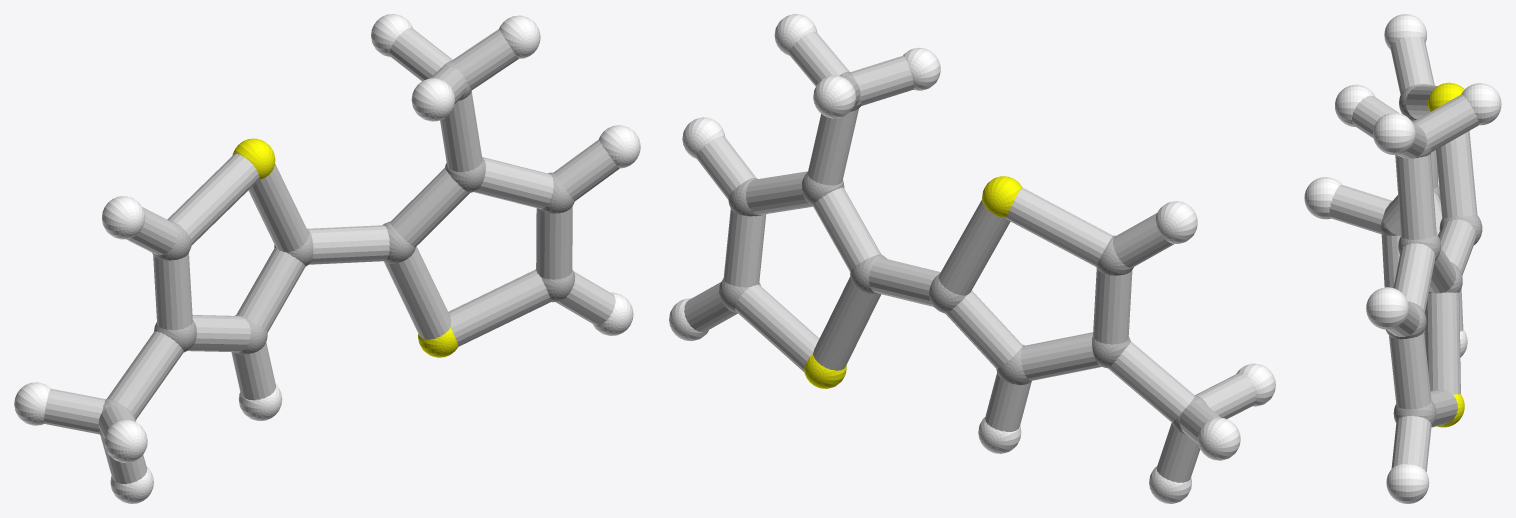
Rendered from Methylthiophene_Phi_25_Theta_10_Methylthiophene.glb.
The picture shows the model from 3 angles, left to right: view 1: azimuth 30°, elevation 25°; view 2: azimuth 150°, elevation 25°; view 3: azimuth 270°, elevation 25°; orthographic projection.
Visible parts, largest first — view 1: grp7965, grp3621, grp1, grp7241; view 2: grp7965, grp3621, grp1, grp7241; view 3: grp7965, grp3621, grp1, grp7241.
Part boxes in pixels (x1,y1,x2,y2): grp7965: [43, 27, 619, 484]; grp3621: [14, 14, 640, 503]; grp1: [99, 60, 575, 437]; grp7241: [232, 138, 458, 357]; grp7965: [684, 31, 1256, 482]; grp3621: [669, 14, 1275, 503]; grp1: [719, 71, 1208, 434]; grp7241: [804, 176, 1022, 388]; grp7965: [1329, 36, 1479, 471]; grp3621: [1304, 14, 1501, 503]; grp1: [1380, 83, 1482, 426]; grp7241: [1428, 82, 1464, 427].
Bounding box in the file's own units: 9.43 × 6 × 2.76.
